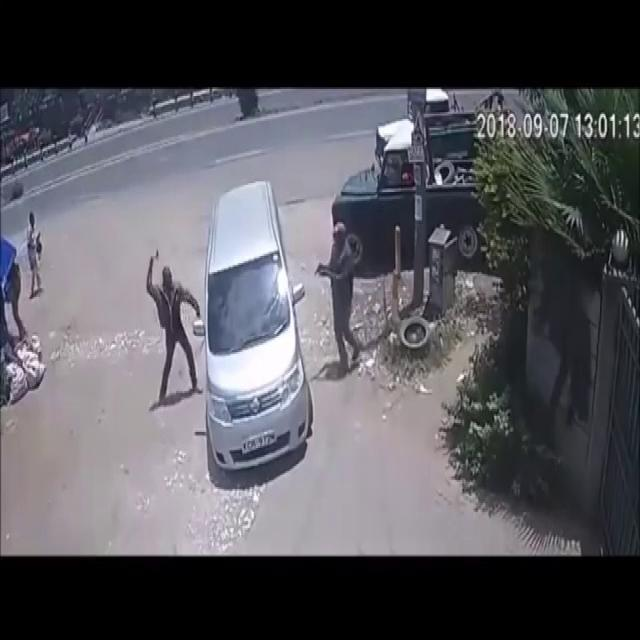weapon: (146, 245, 161, 265), (311, 260, 322, 276)
